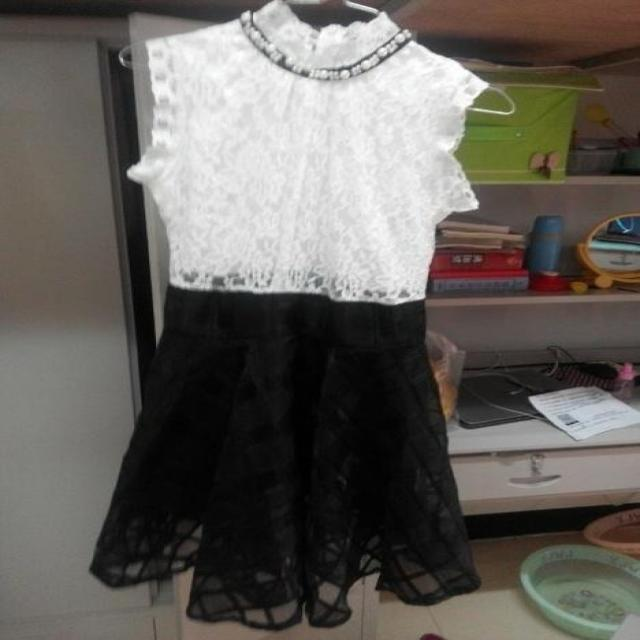vest dress: (92, 3, 485, 630)
